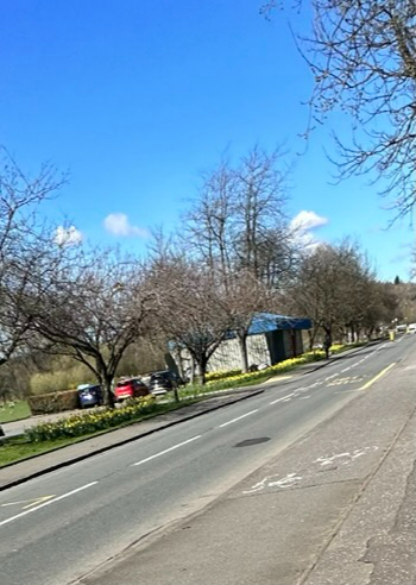car: (151, 367, 185, 396), (75, 385, 105, 410), (116, 378, 150, 400)
tree: (28, 274, 145, 387), (156, 275, 229, 378), (300, 241, 363, 358), (221, 264, 276, 374)
